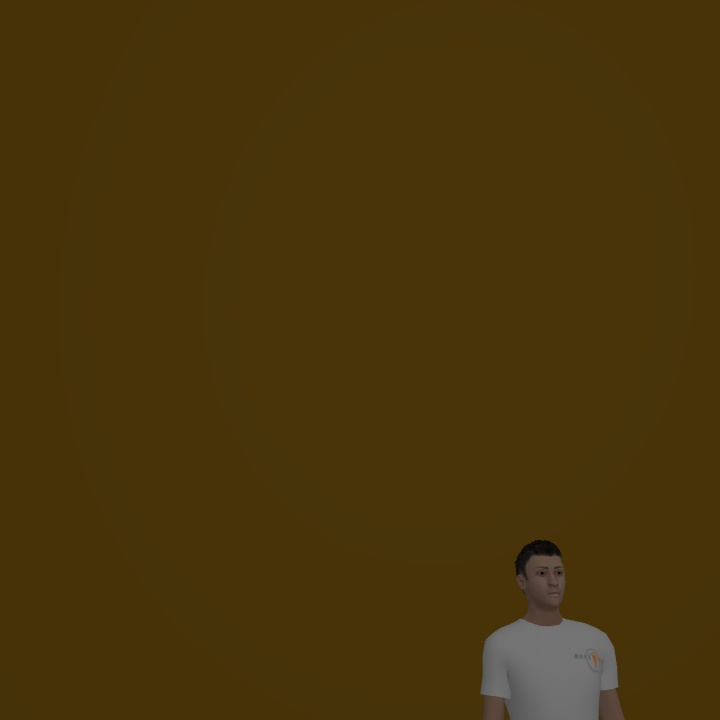victim: (479, 541, 624, 715)
